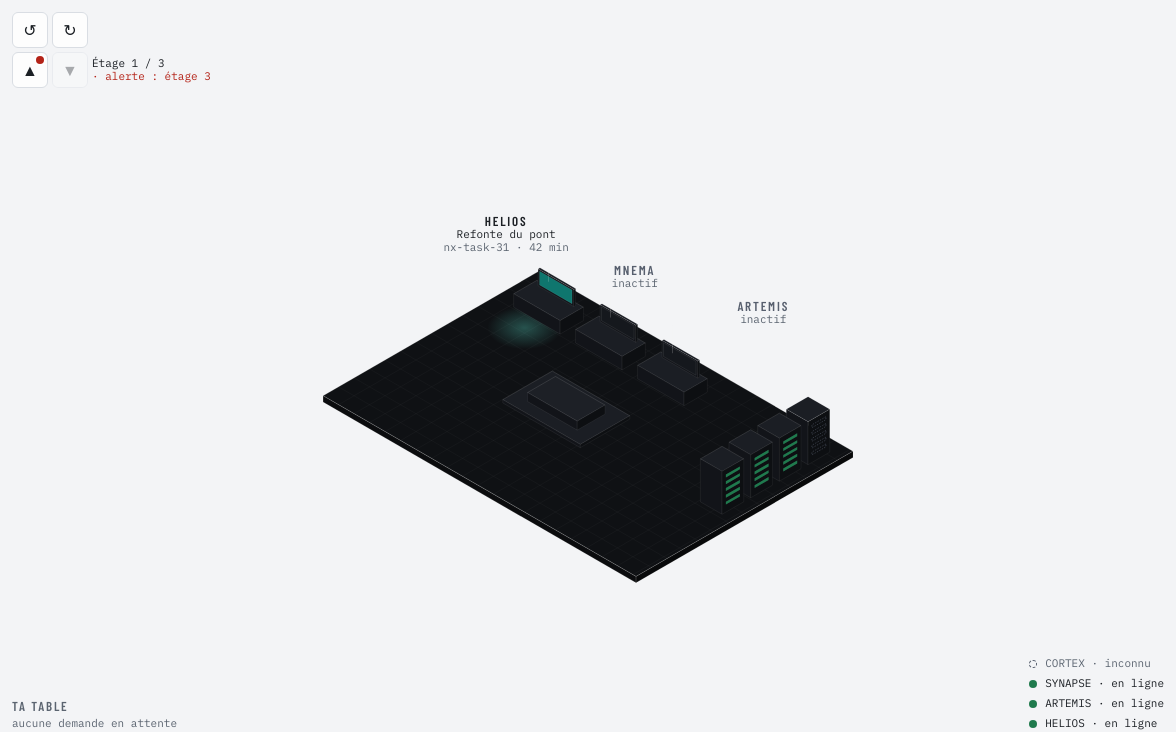
it: pastille sur ▼ pour un étage en dessous, la plus grave l'emporte, aucune pour l'étage affiché
Click the button named "Monter d'un étage".
click(30, 70)  # box left=12, top=52, right=48, bottom=88
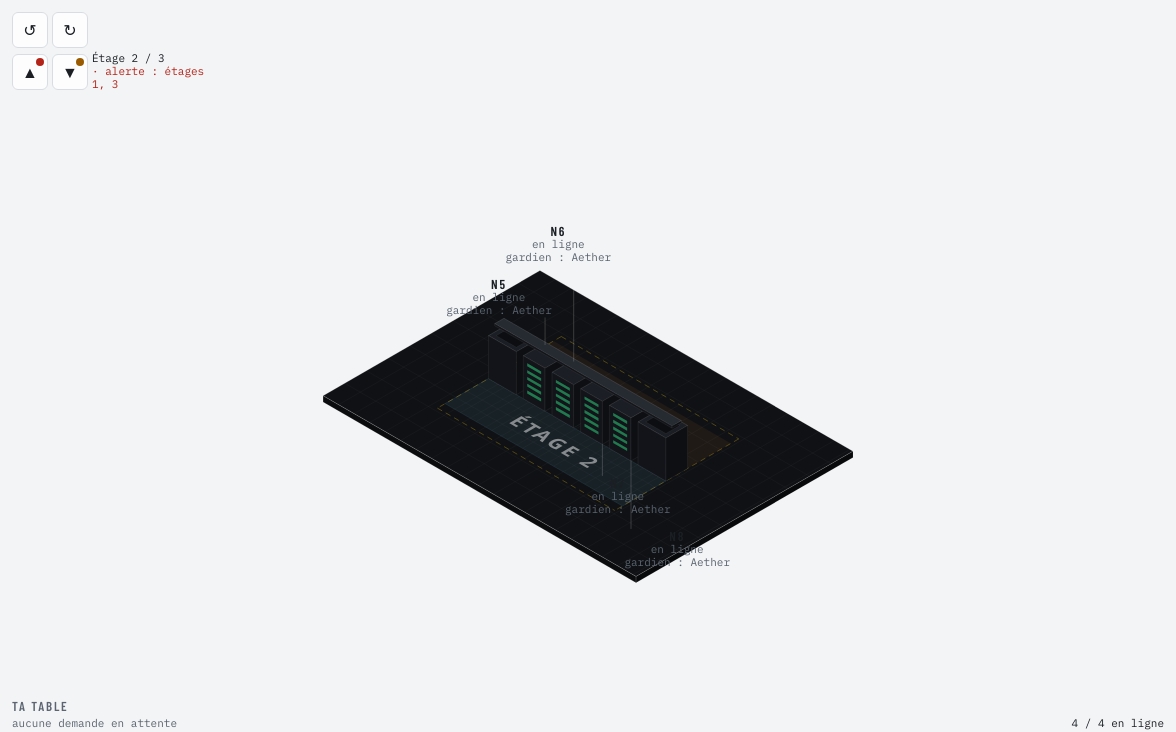
Click the button named "Monter d'un étage".
click(30, 72)  # box left=12, top=54, right=48, bottom=90
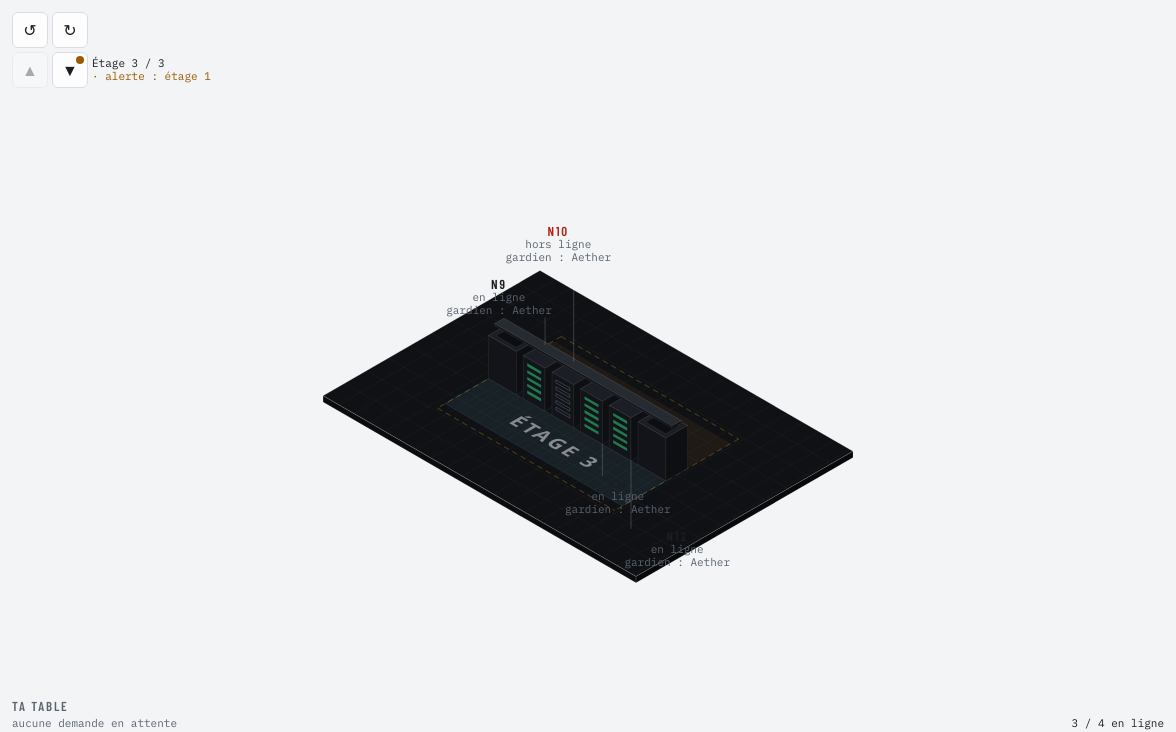
Expected: the element showing "Étage 3 / 3 · alerte : étage 1" is shown, left=92, top=57, right=222, bottom=83
